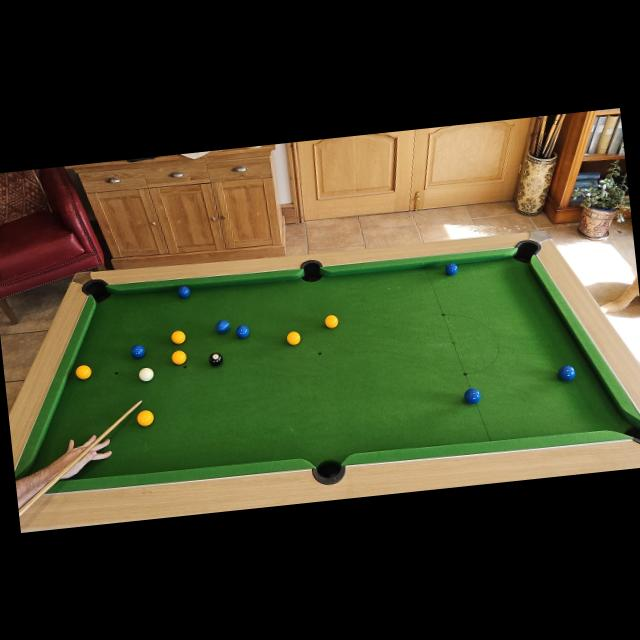Ball: (556, 364, 576, 382), (136, 409, 154, 427), (462, 387, 480, 404), (75, 364, 92, 380), (170, 328, 186, 344), (171, 349, 187, 365), (286, 330, 301, 346), (130, 344, 145, 359), (138, 368, 154, 382), (216, 318, 230, 334), (208, 352, 223, 366), (236, 324, 250, 338), (324, 314, 338, 328), (445, 262, 458, 276), (178, 285, 190, 297)
